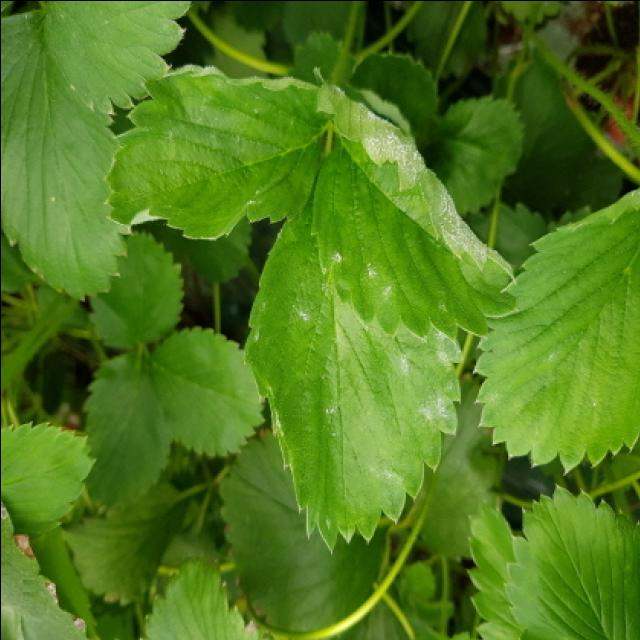Powdery Mildew Leaf: (243, 178, 461, 555), (311, 78, 517, 339), (100, 62, 330, 239)
